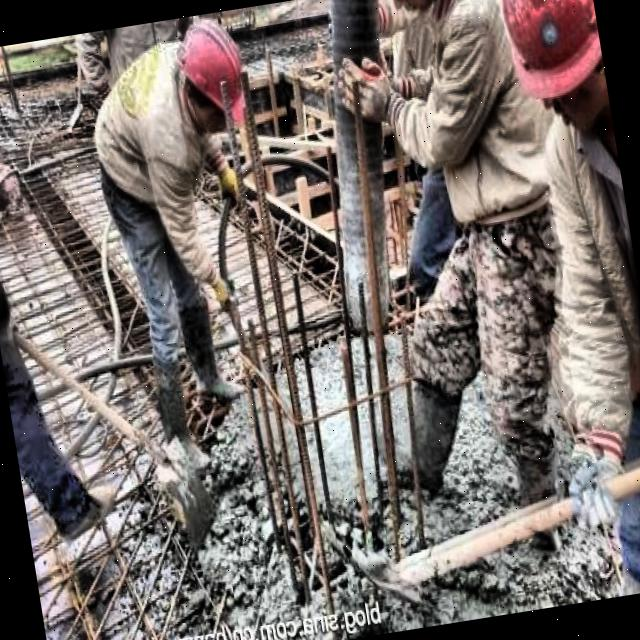helmet: (490, 0, 613, 147), (160, 14, 262, 158)
